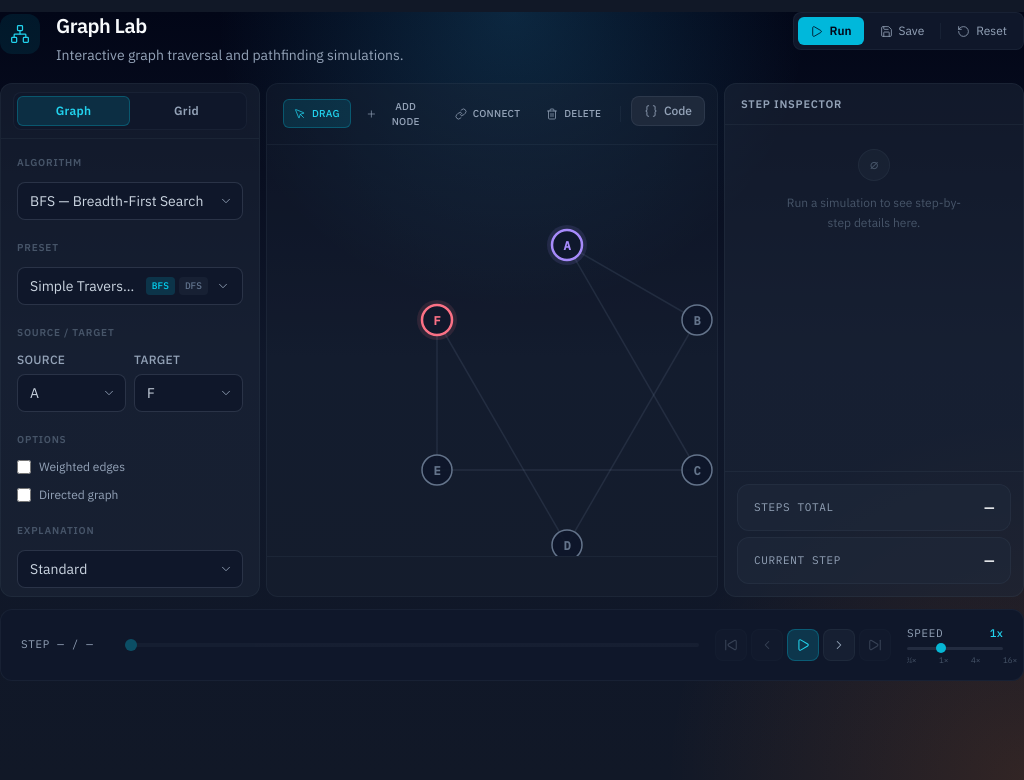
Test: GraphLabPage — preset dropdown from API › populates form fields when selecting a different preset via PresetSelect
Expected: the dropdown named "Source" shows "A", [17,374,126,412]
Step 1. Click the button with aria-label "preset" → (130, 286), box [17,267,243,305]
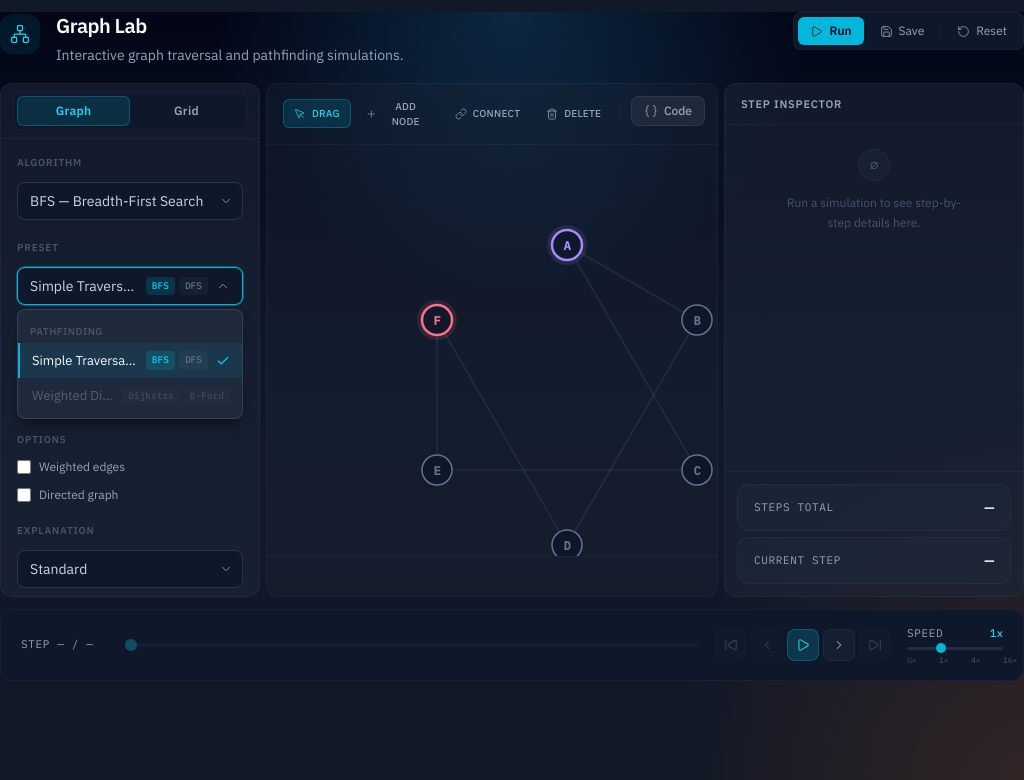
Step 2. Click the text "Weighted Diamond — 5 nodes" → (73, 396), box [32,386,114,406]
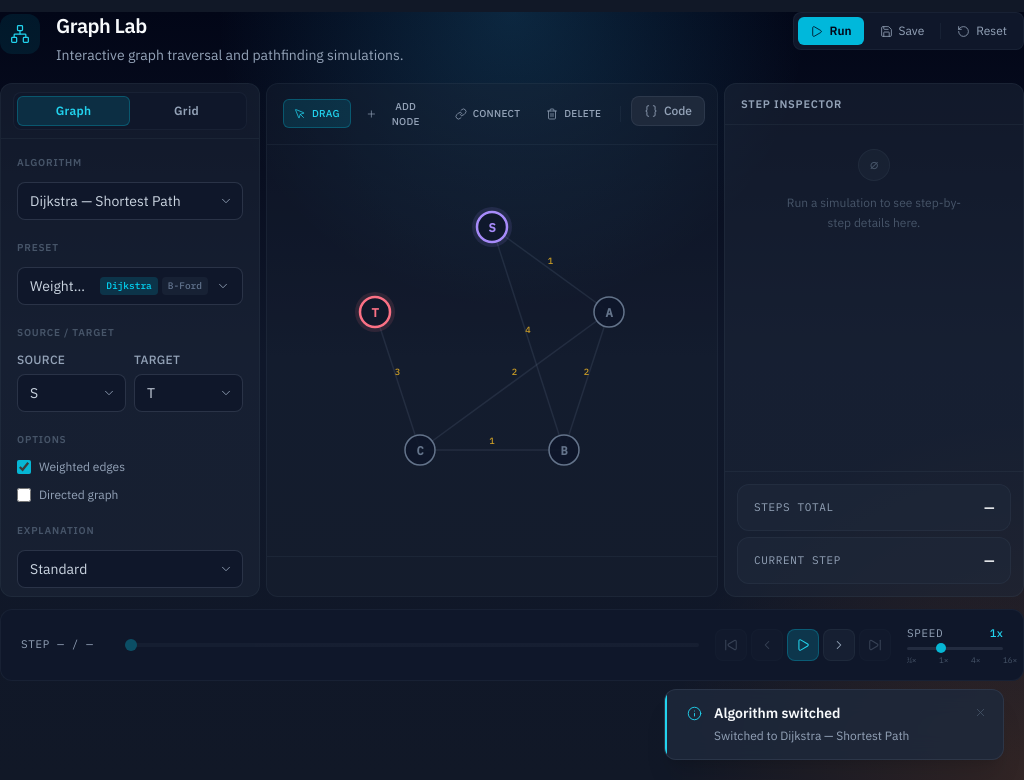
Expected: the dropdown named "Source" shows "S", [17,374,126,412]
Expected: the dropdown named "Target" shows "T", [134,374,243,412]
